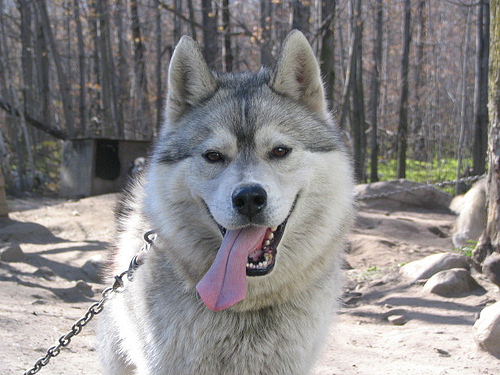dog: (99, 27, 360, 374)
